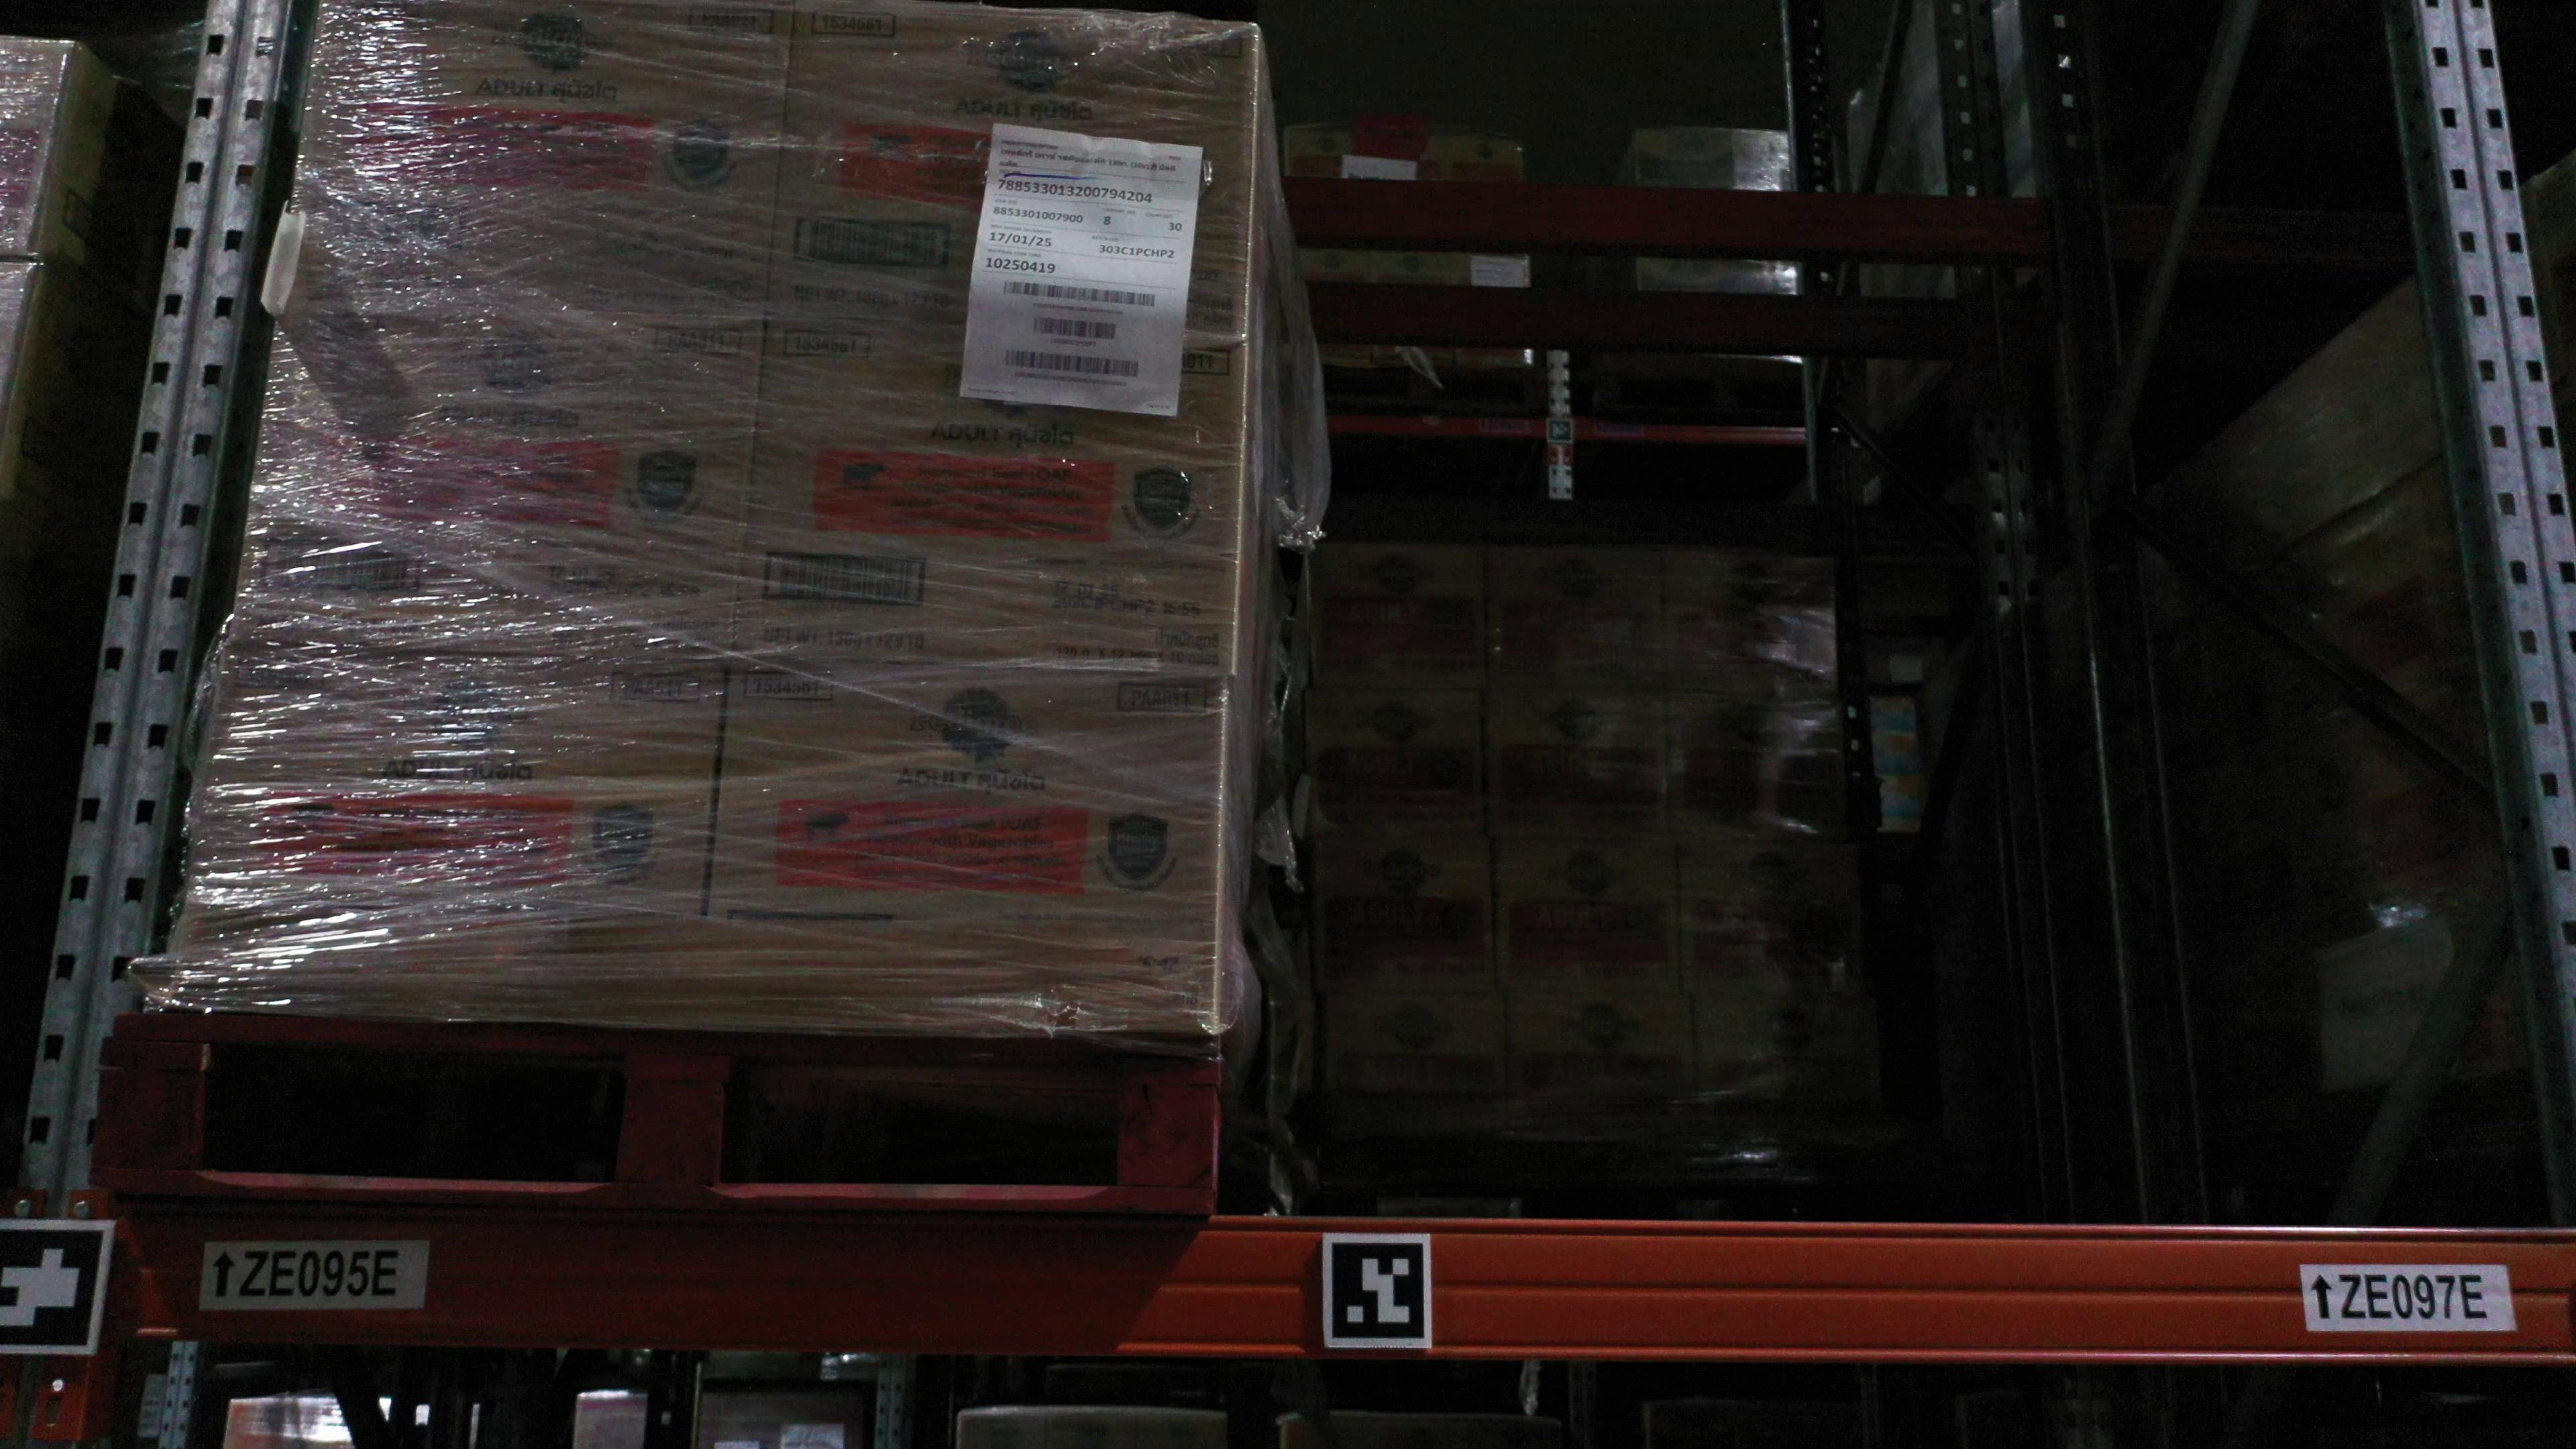-: (704, 658, 1230, 1033), (228, 308, 764, 658), (727, 320, 1251, 678), (180, 644, 731, 931), (0, 28, 81, 255)
box: (1502, 991, 1702, 1152), (1675, 840, 1865, 1001), (1493, 837, 1679, 1000), (1315, 833, 1499, 993), (1690, 994, 1881, 1146), (1661, 545, 1842, 704), (1486, 545, 1670, 697), (1483, 694, 1670, 840), (1307, 688, 1490, 839), (1668, 692, 1851, 842), (1322, 989, 1507, 1134), (1315, 541, 1484, 694)
